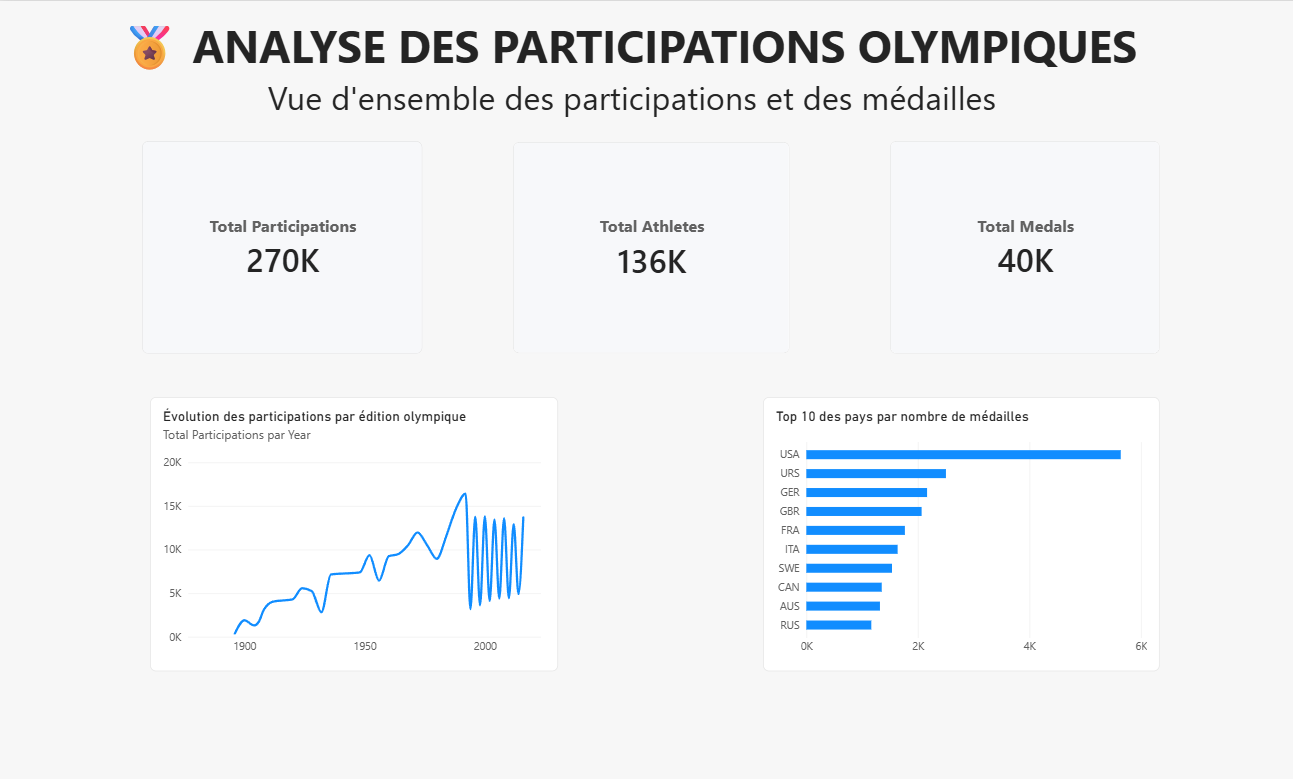

The page's visual inventory and layout, read from the dashboard file:
{"tool":"powerbi","page":{"name":"Page 1","canvas":[1920,1080],"ordinal":0},"visuals":[{"type":"cardVisual","title":"aa","fields":{"Data":["FactParticipation.Total Participations"]},"box":[186.8,184.2,369.7,280.3],"z":0},{"type":"cardVisual","fields":{"Data":["FactParticipation.Total Athletes"]},"box":[675,185.5,364.5,278.9],"z":1000},{"type":"cardVisual","fields":{"Data":["FactParticipation.Total Medals"]},"box":[1171.1,184.2,355.3,280.3],"z":2000},{"type":"lineChart","title":"Évolution des participations par édition olympique","fields":{"Category":["DimOlympics.Year"],"Y":["FactParticipation.Total Participations"]},"box":[197.4,521.1,536.8,360.5],"z":3000},{"type":"clusteredBarChart","title":"Top 10 des pays par nombre de médailles","fields":{"Category":["DimCountry.NOC"],"Y":["FactParticipation.Total Medals"]},"box":[1003.9,521.1,522.4,360.5],"z":4000},{"type":"textbox","box":[156.6,0,1568.4,247.4],"z":5000}]}

Visuals, with their boxes on the page's 1920x1080 design canvas (x1, y1, x2, y2). These are canvas units, not pixel positions in the 1293x779 screenshot, which may show the page scaled, cropped or inside an application window:
"aa" cardVisual: (187, 184, 556, 464)
cardVisual - FactParticipation.Total Athletes: (675, 186, 1040, 464)
cardVisual - FactParticipation.Total Medals: (1171, 184, 1526, 464)
"Évolution des participations par édition olympique" lineChart: (197, 521, 734, 882)
"Top 10 des pays par nombre de médailles" clusteredBarChart: (1004, 521, 1526, 882)
textbox: (157, 0, 1725, 247)
